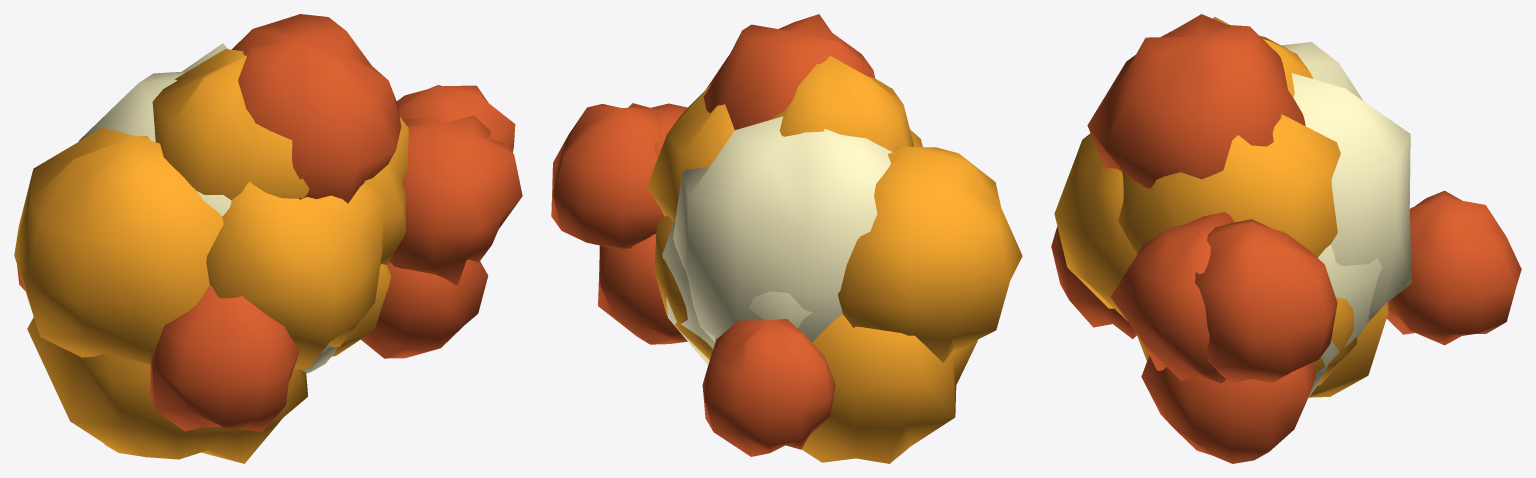
File: blast.gltf
3 views of the same model, side by side, from view 1: azimuth 30°, elevation 25°; view 2: azimuth 150°, elevation 25°; view 3: azimuth 270°, elevation 25° (orthographic). The views are drawn at different scales.
Parts seen in each view (by area): view 1: blast; view 2: blast; view 3: blast.
Boxes of the visible parts, box(x1,y1,x2,y2) form: blast: box(14, 14, 522, 463); blast: box(551, 14, 1022, 463); blast: box(1051, 14, 1521, 463).
Bounding box in the file's own units: 0.78 × 0.6136 × 0.6344.
